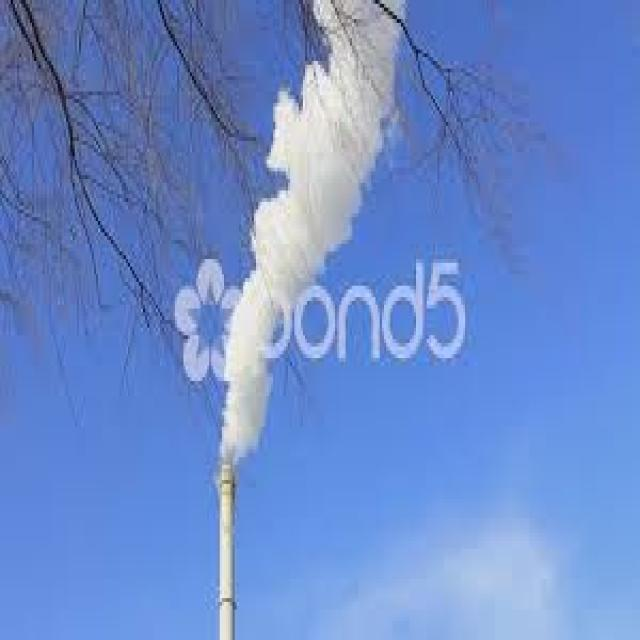Smoke: (220, 0, 406, 470)
